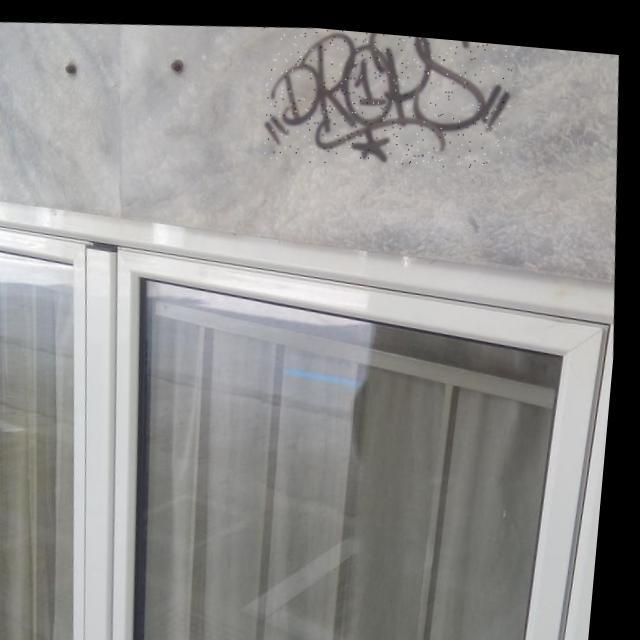-: (253, 18, 520, 175)
